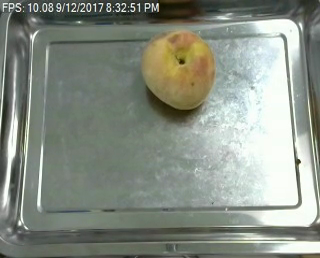Peach: (140, 27, 216, 109)
